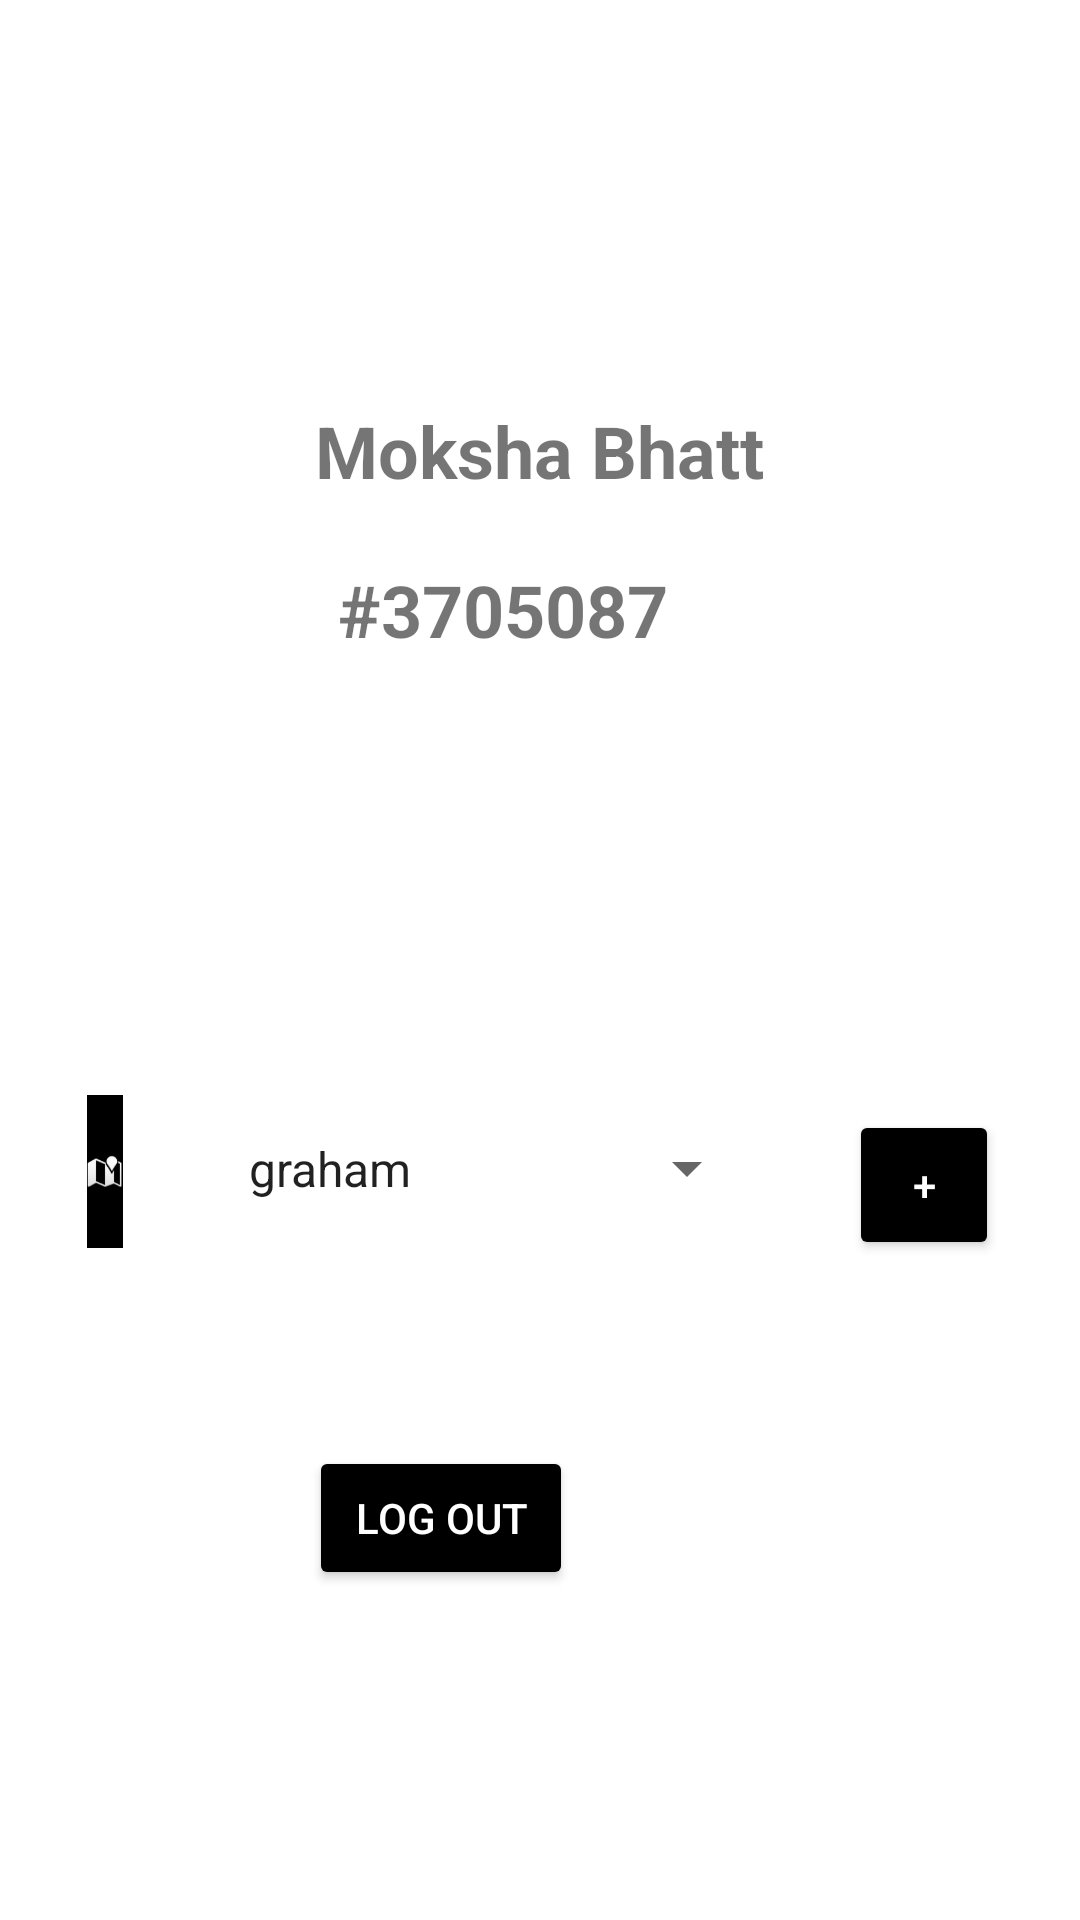

Icon click points for this 1080px x 1920px phone screenshot, format [x,y]:
map: [105,1171]
